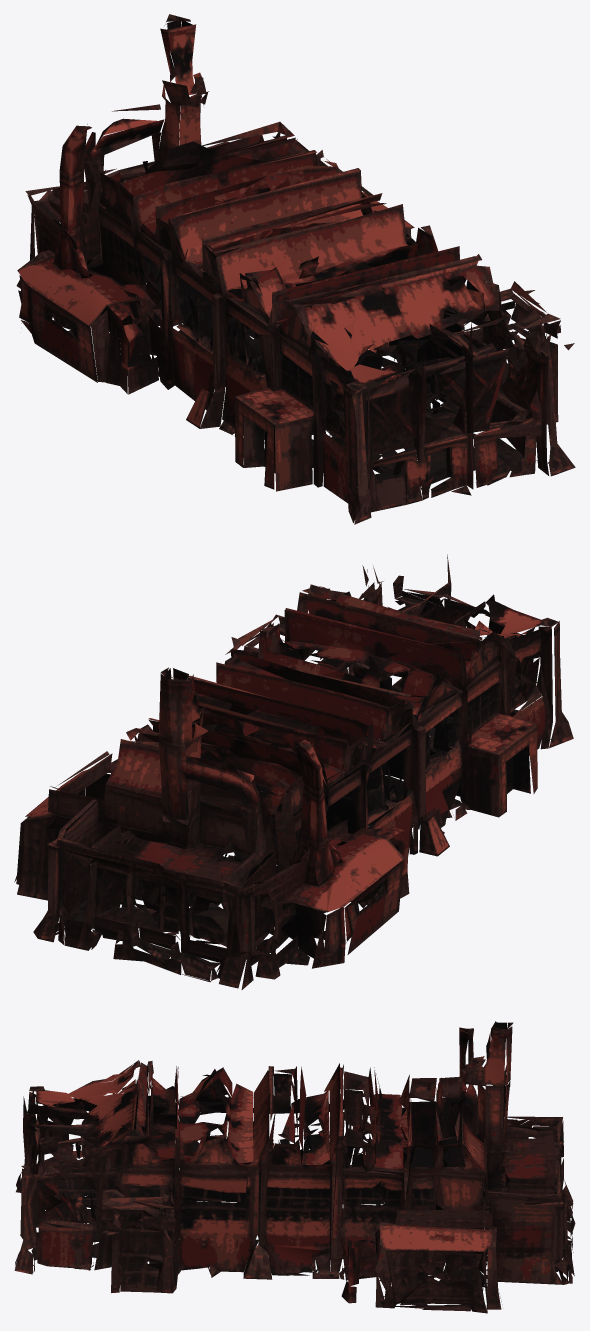
The model's file is sk_factory_a.glb.
3 views of the same model, one above another, from view 1: azimuth 30°, elevation 25°; view 2: azimuth 150°, elevation 25°; view 3: azimuth 270°, elevation 25° (orthographic). The views are drawn at different scales.
Visible parts, largest first — view 1: sk_factory_a; view 2: sk_factory_a; view 3: sk_factory_a.
Boxes of the visible parts, x1,y1,x2,y2 form: sk_factory_a: (16,14,575,524); sk_factory_a: (14,554,573,989); sk_factory_a: (14,1021,575,1313).
Size of the model in its own units: 0.5891 by 0.4503 by 1.01.
Materials: 1 (1 with a texture image).
